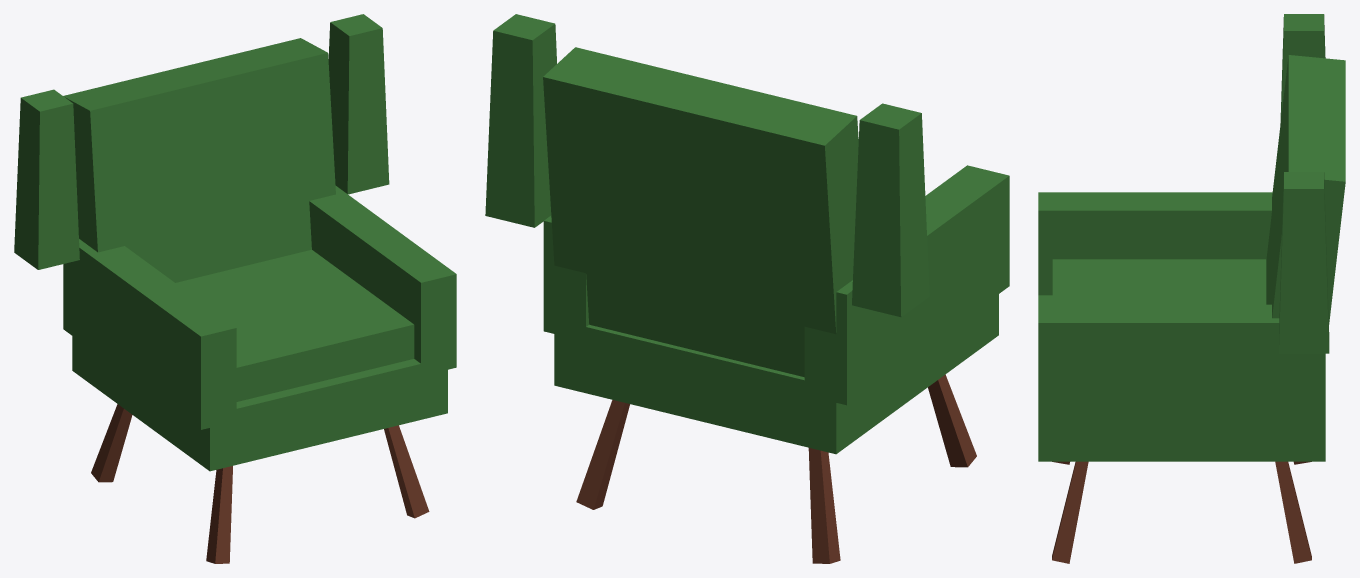
The model's file is GH_Armchair_Retro_01.glb.
3 renders of one model, left to right at view 1: azimuth 30°, elevation 25°; view 2: azimuth 150°, elevation 25°; view 3: azimuth 270°, elevation 25°, orthographic. The views are drawn at different scales.
Parts seen in each view (by area): view 1: GH_Armchair_Retro_01; view 2: GH_Armchair_Retro_01; view 3: GH_Armchair_Retro_01.
Boxes of the visible parts, x1,y1,x2,y2 form: GH_Armchair_Retro_01: (14,14,456,563); GH_Armchair_Retro_01: (485,14,1009,563); GH_Armchair_Retro_01: (1038,14,1345,563).
Size of the model in its own units: 1.18 by 1.26 by 0.8561.
1 material, 1 textured.
